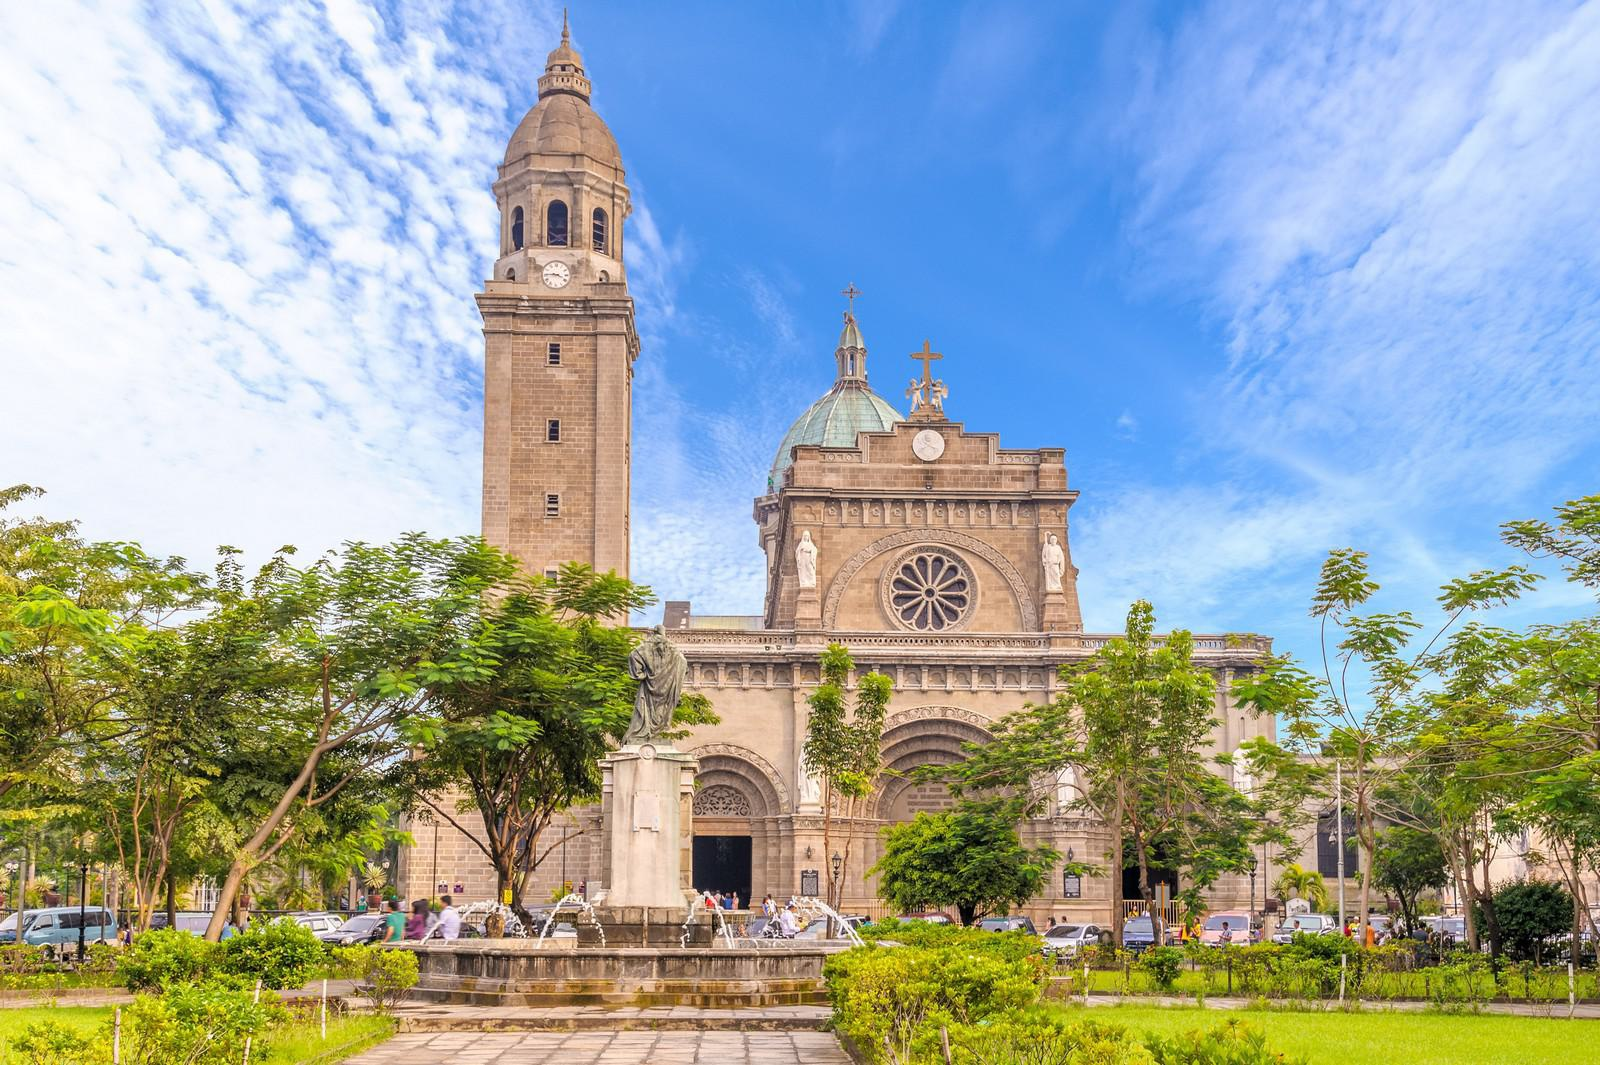manila_cathedral_church_intramuros_manila: (409, 1, 1283, 945)
